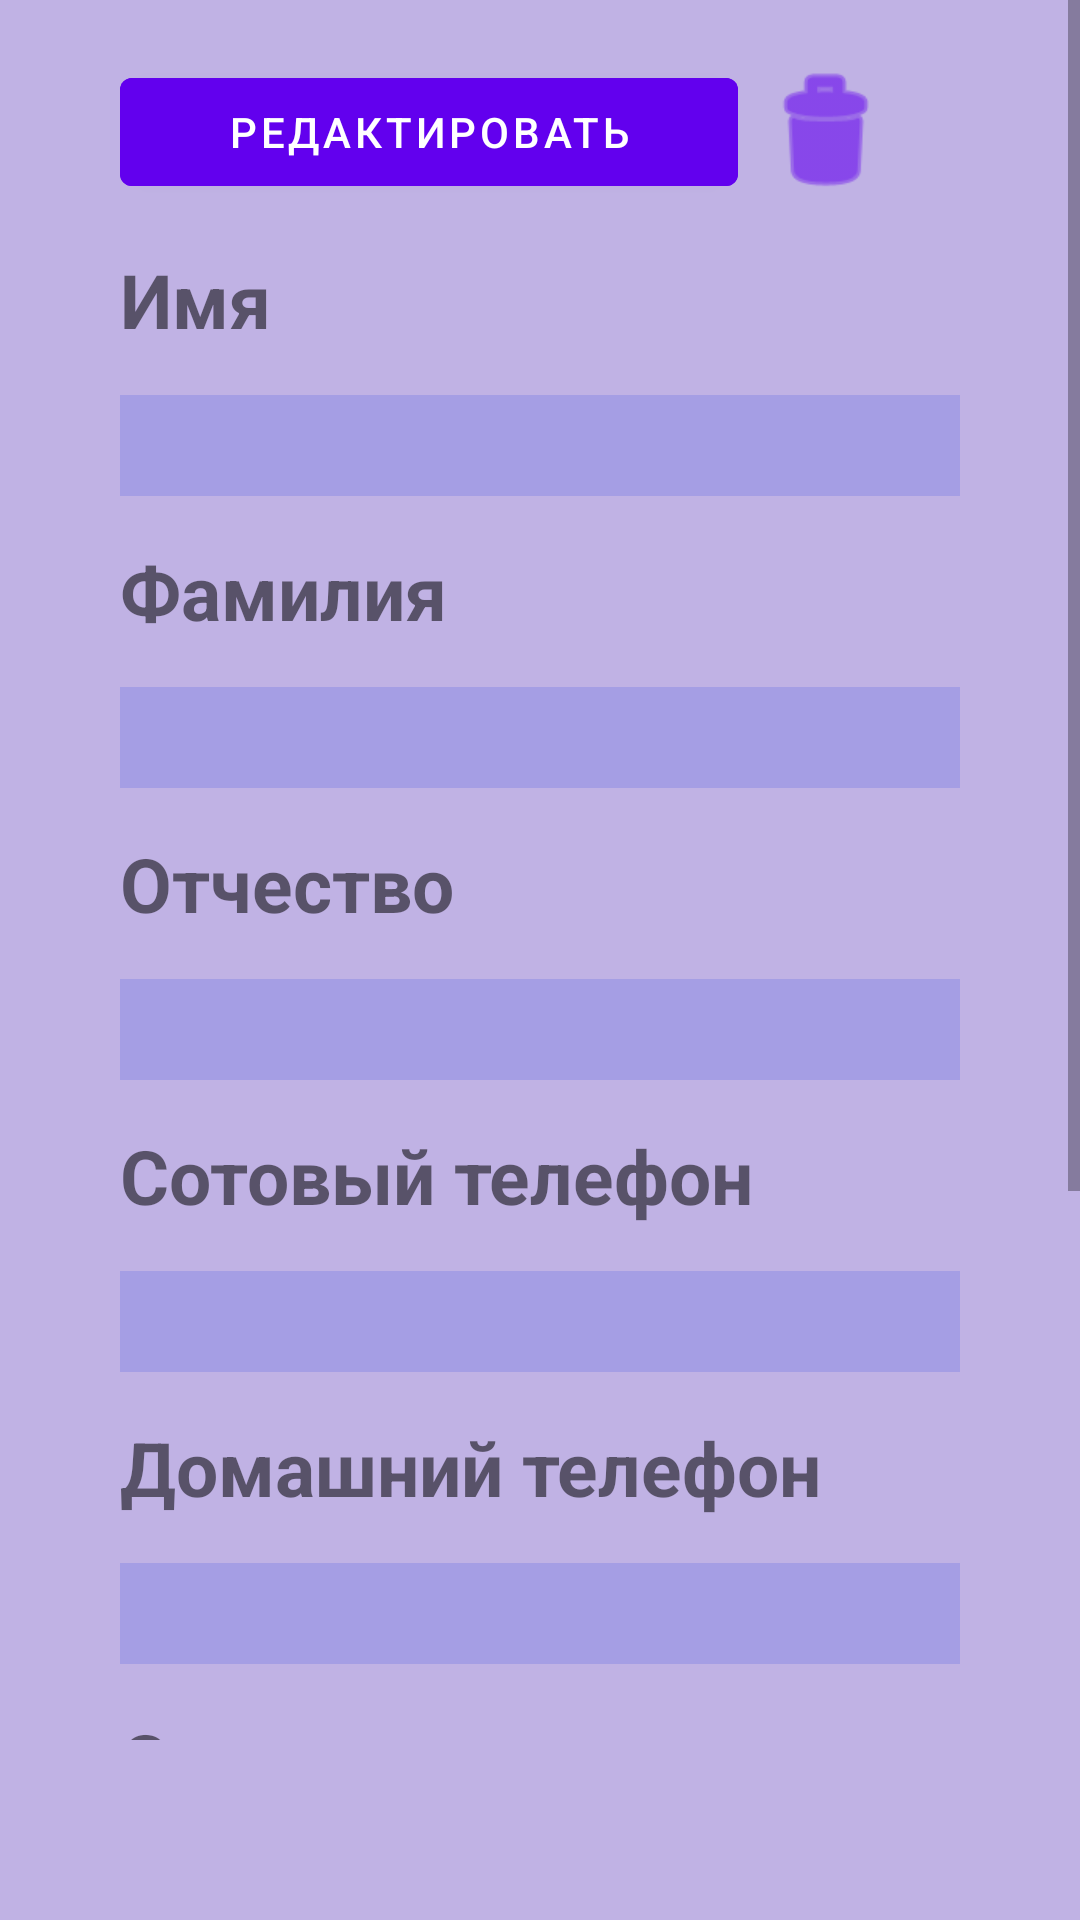

Named icons in this screenshot (1080 × 1920) and their bounding boxes, [x1,y1,x2,y2]:
delete: [784,74,868,186]
